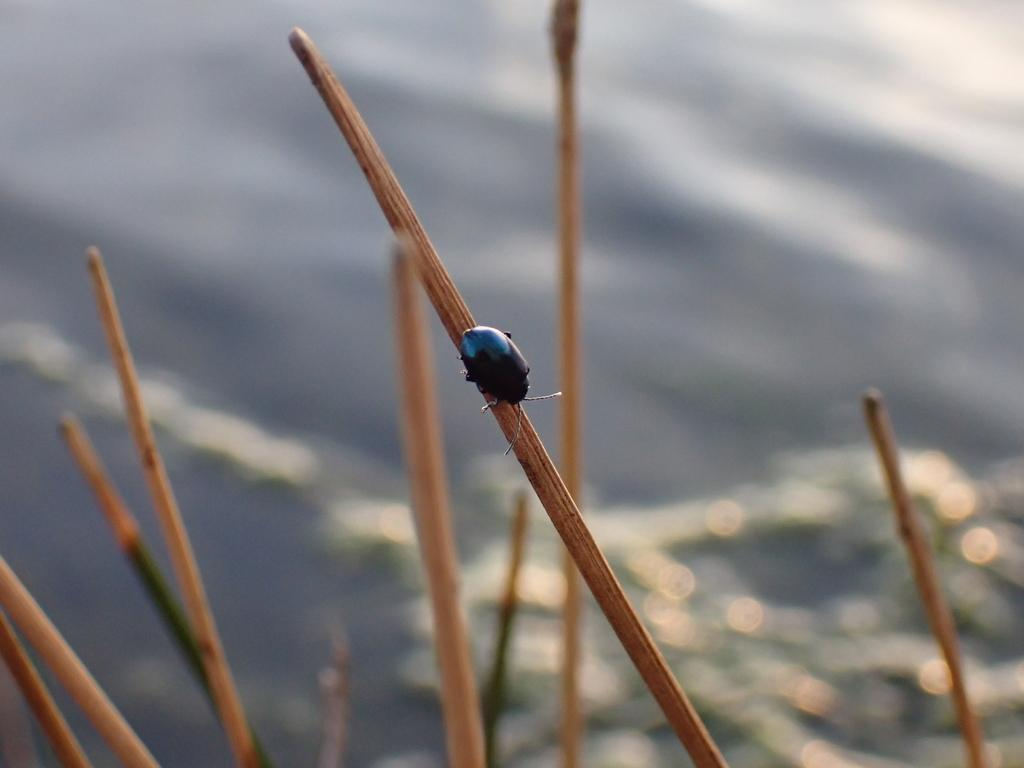flea_beetle: (436, 294, 587, 469)
